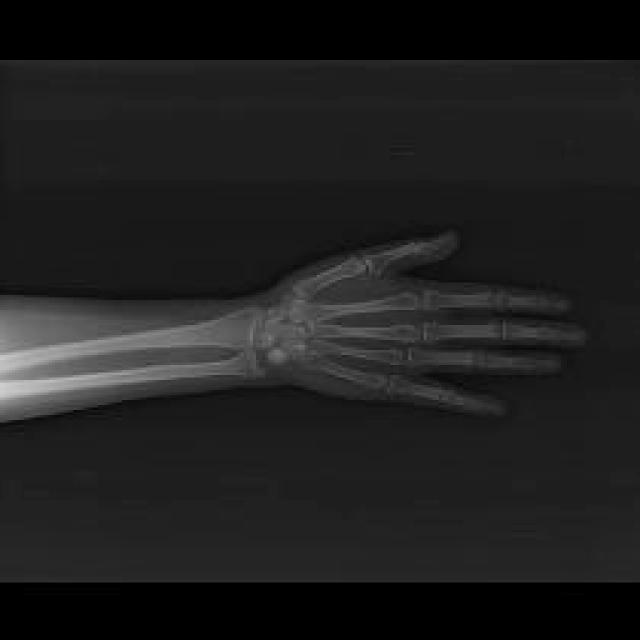normal: (1, 231, 585, 411)
